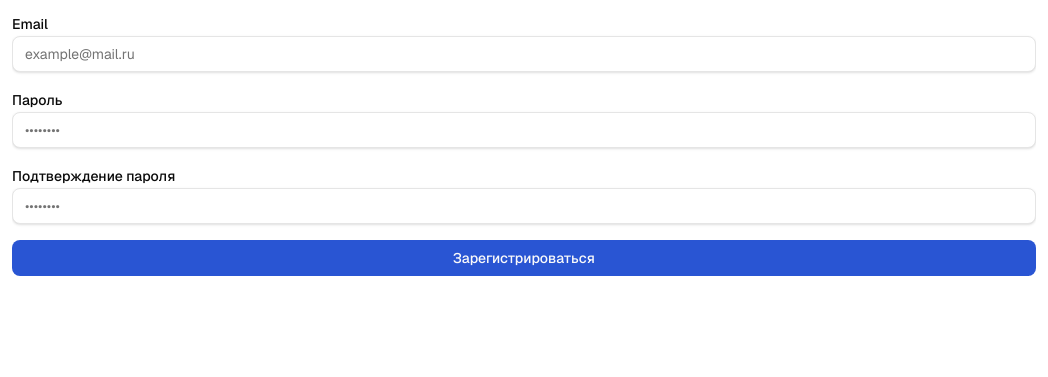
Test case: RegisterForm › validates empty form submission
This screenshot has width=1048, height=377.
Click the button "Зарегистрироваться": (524, 258) [12, 240, 1036, 276]
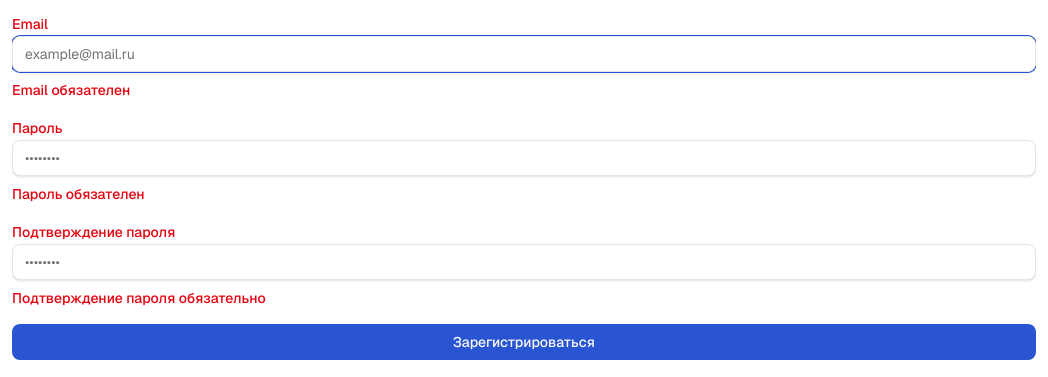
Expected: the text "Email обязателен" is shown, [12, 81, 130, 99]
Expected: the text "Пароль обязателен" is shown, [12, 185, 145, 203]
Expected: the text "Подтверждение пароля обязательно" is shown, [12, 289, 266, 307]
